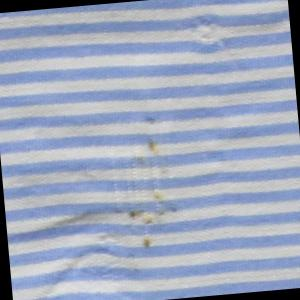Damage: (10, 115, 196, 300), (179, 3, 250, 79)
Oil Stain: (105, 110, 186, 258)
